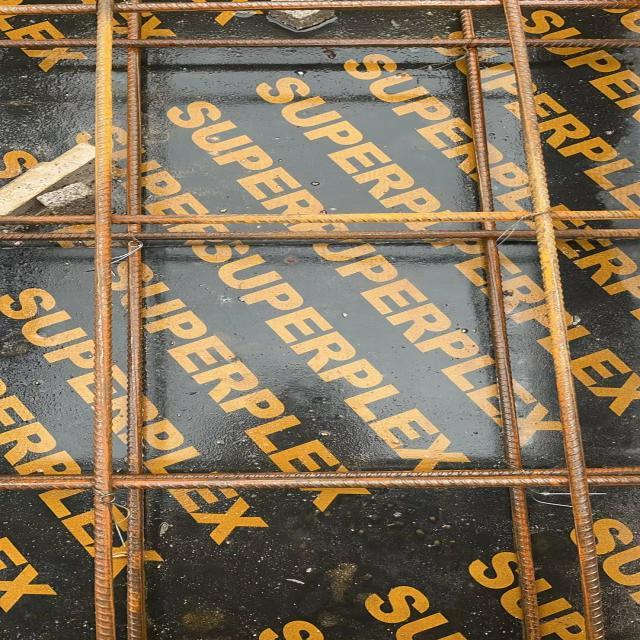ribbed bar: (503, 0, 608, 639), (457, 10, 543, 639), (0, 466, 639, 491), (124, 0, 147, 639), (94, 0, 114, 639), (0, 208, 639, 226), (0, 0, 639, 17), (0, 229, 639, 243), (0, 38, 639, 49)
